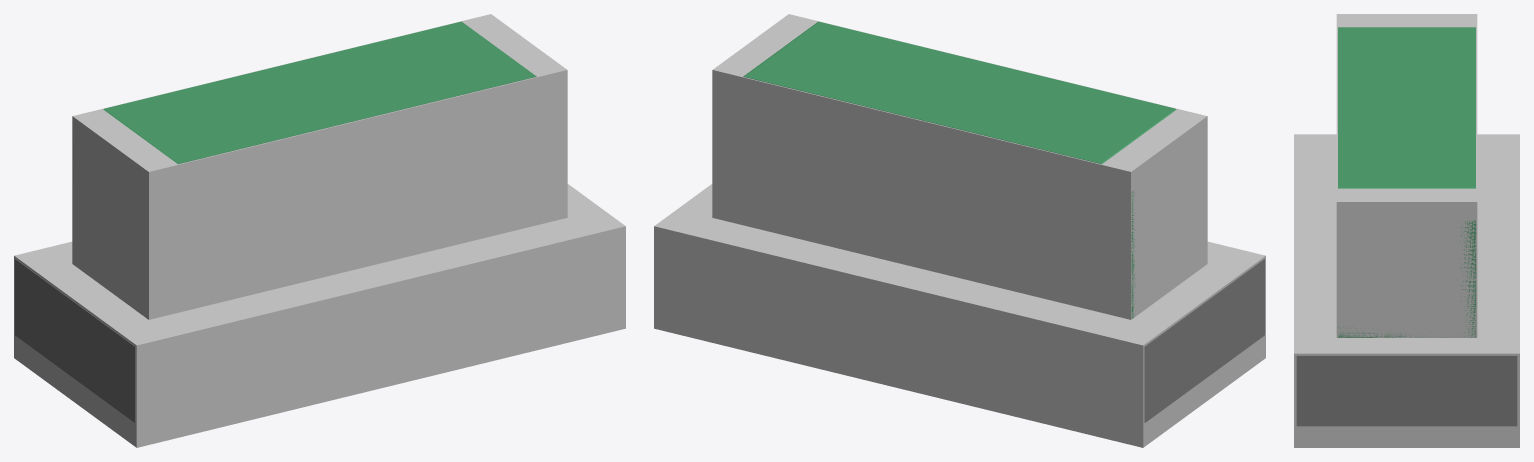
The model's file is bush.fbx.
3 views of the same model, side by side, from view 1: azimuth 30°, elevation 25°; view 2: azimuth 150°, elevation 25°; view 3: azimuth 270°, elevation 25° (orthographic). The views are drawn at different scales.
Parts seen in each view (by area): view 1: grass_CB, stone_CB, bush; view 2: grass_CB, stone_CB, bush; view 3: bush, stone_CB, grass_CB.
Part boxes in pixels (x1,y1,x2,y2): grass_CB: [72, 14, 567, 319]; stone_CB: [14, 184, 625, 447]; bush: [15, 21, 536, 422]; grass_CB: [712, 14, 1207, 319]; stone_CB: [654, 184, 1265, 447]; bush: [743, 21, 1264, 422]; bush: [1296, 27, 1517, 426]; stone_CB: [1294, 134, 1519, 447]; grass_CB: [1336, 14, 1477, 337].
Size of the model in its own units: 2.34 by 1.14 by 1.02.
